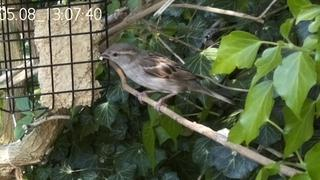sparrow: (97, 42, 236, 117)
